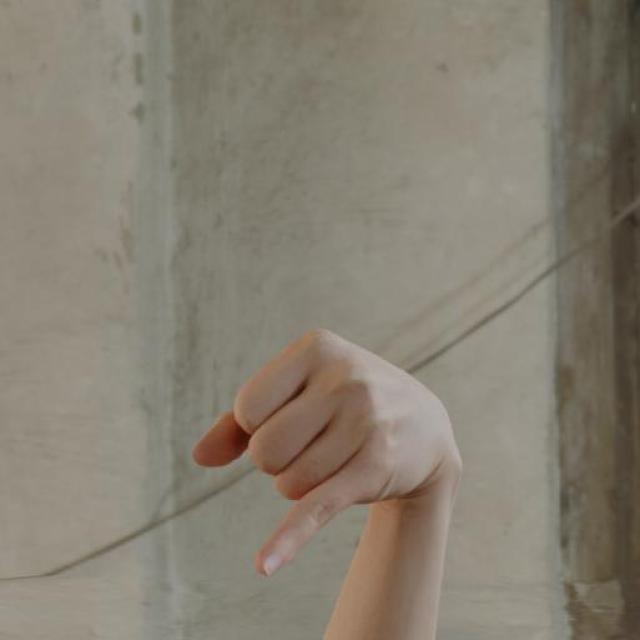J: (188, 323, 467, 579)
